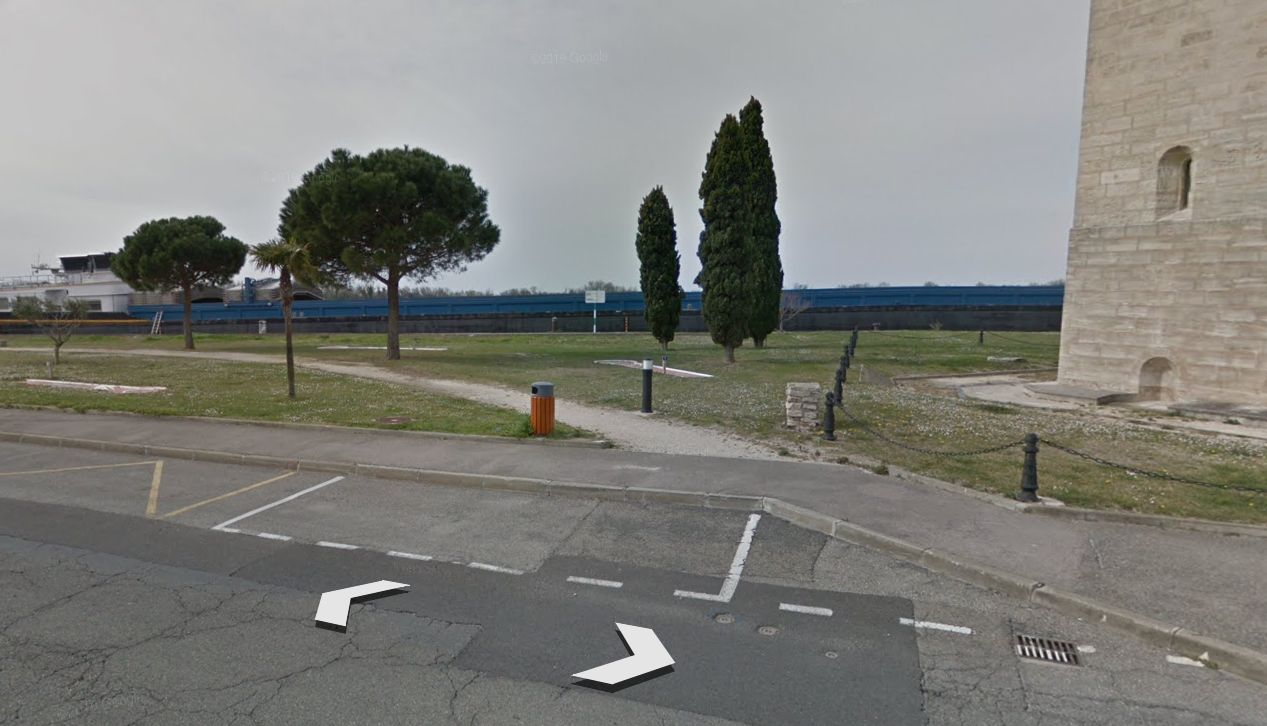Tree: (282, 156, 502, 353), (706, 99, 796, 360), (112, 209, 250, 374), (631, 185, 696, 359)
